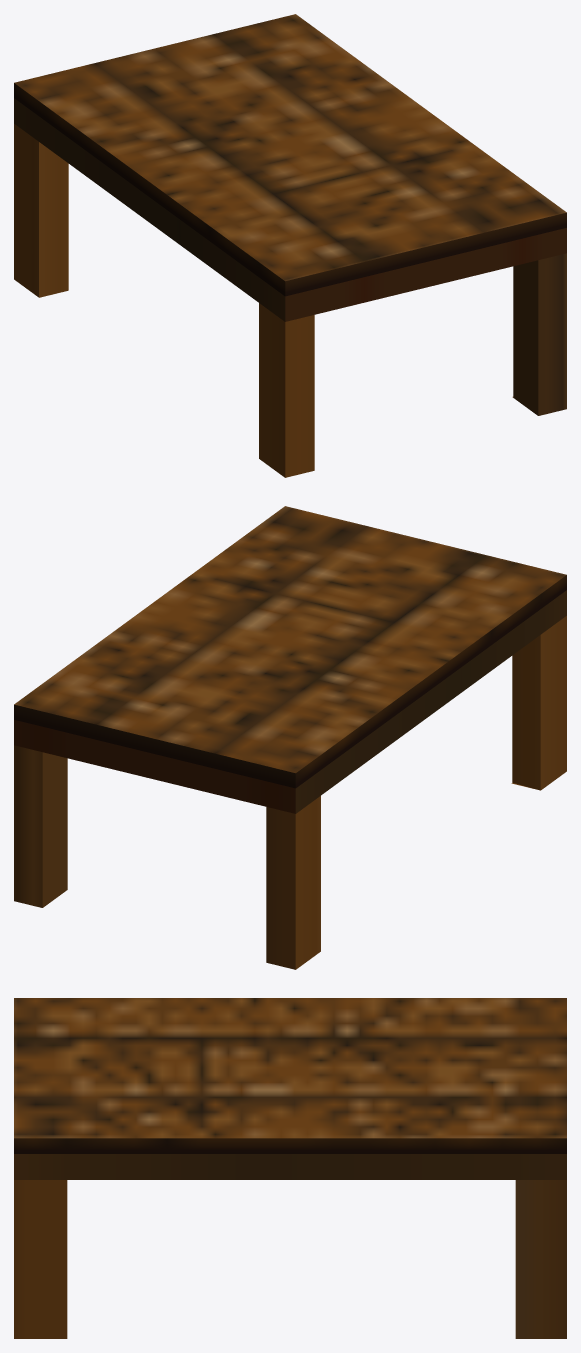
Rendered from table_971x01.obj.
3 views of the same model, one above another, from view 1: azimuth 30°, elevation 25°; view 2: azimuth 150°, elevation 25°; view 3: azimuth 270°, elevation 25° (orthographic).
Visible parts, largest first — view 1: Table_971x1; view 2: Table_971x1; view 3: Table_971x1.
Boxes of the visible parts, x1,y1,x2,y2 form: Table_971x1: (14,14,566,477); Table_971x1: (14,506,566,969); Table_971x1: (14,998,566,1338).
Bounding box in the file's own units: 3 × 2 × 5.
